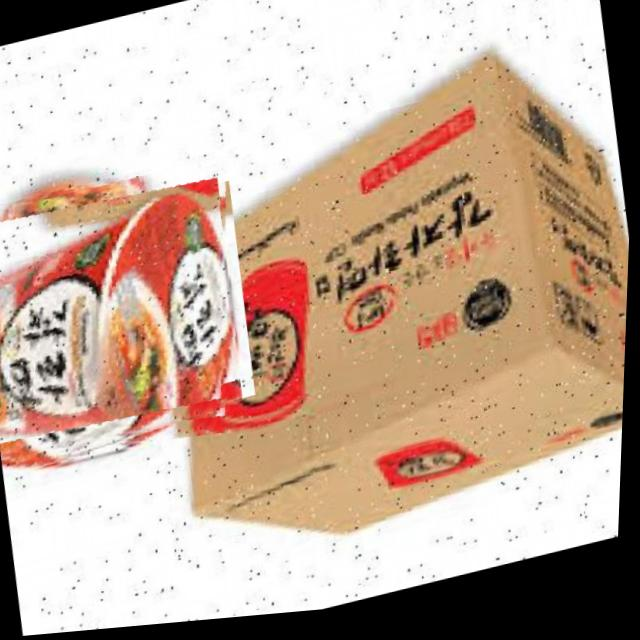Miscellaneous: (0, 159, 258, 481)
